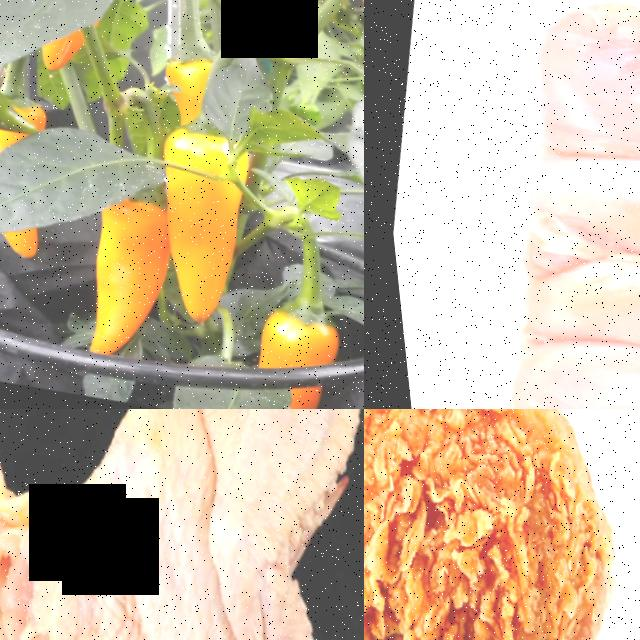chicken breast: (467, 0, 640, 204), (479, 100, 640, 308), (480, 226, 640, 399)
chicken thigh: (364, 409, 640, 640)
chicken wing: (0, 409, 337, 640), (105, 409, 364, 640)
chilli: (119, 117, 264, 336), (56, 194, 178, 365)
